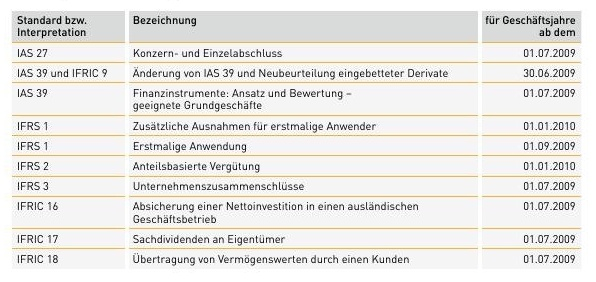table: (0, 0, 596, 282)
